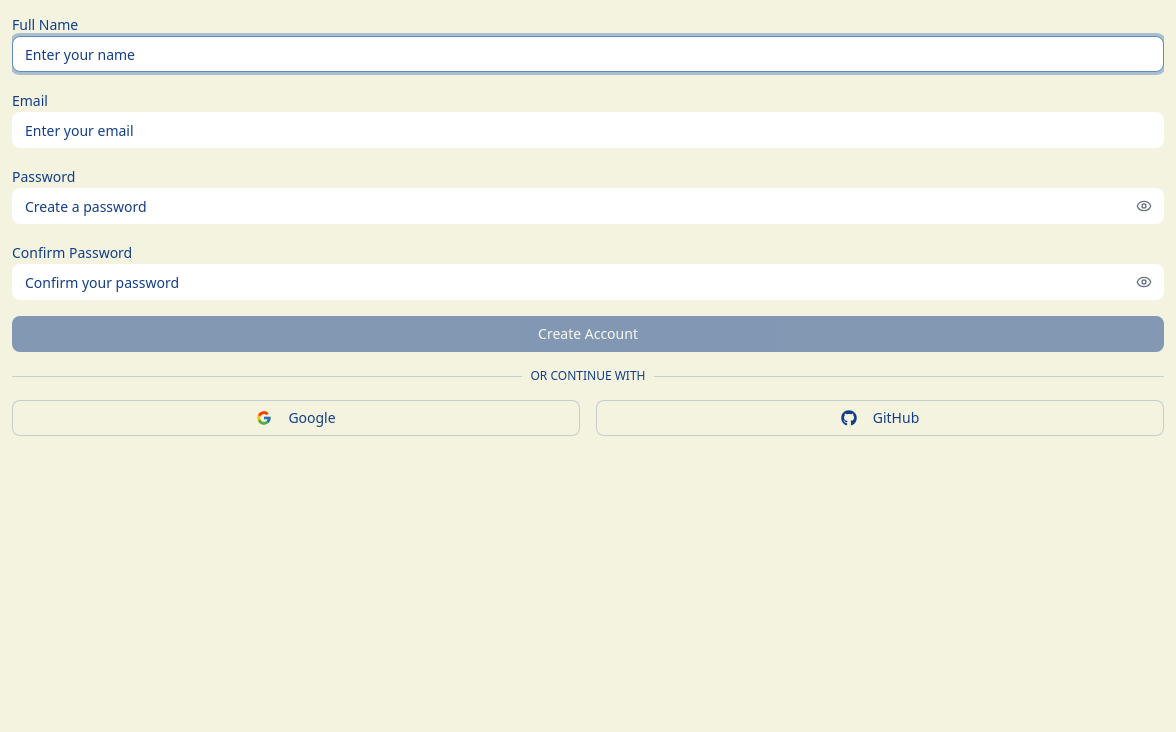
SignupForm Component › rate-limit with no remainingTime falls back to 120s cooldown
The image size is (1176, 732).
Type "Fallback User" into the field with placeholder "Enter your name" at coordinates (588, 54), box top-left (12, 36), bottom-right (1164, 72)
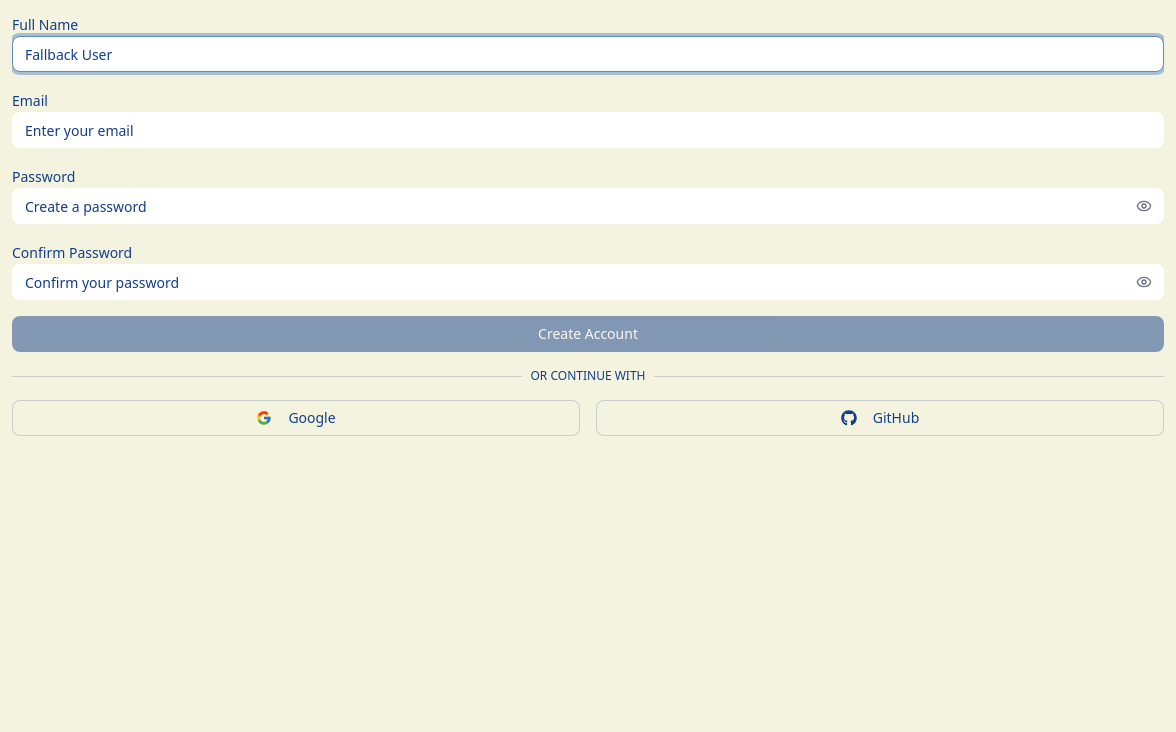
Type "fallback@example.com" into the field with placeholder "Enter your email" at coordinates (588, 130), box top-left (12, 112), bottom-right (1164, 148)
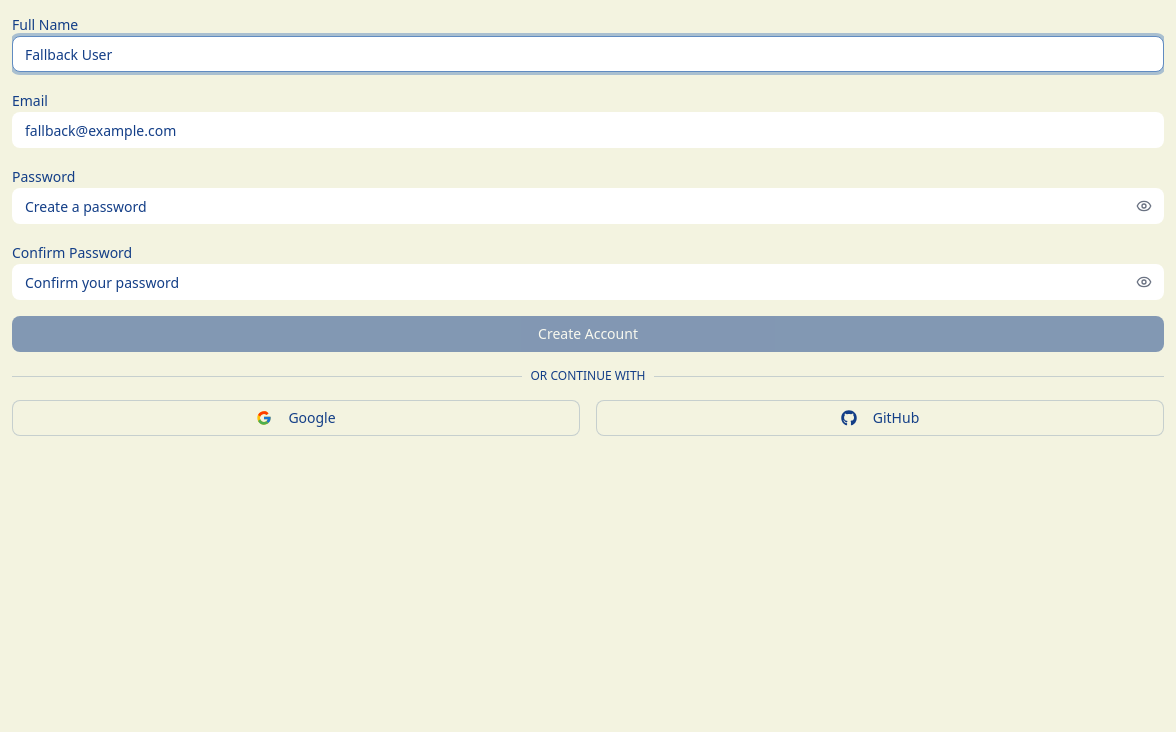
Type "password123" into the password field with placeholder "Create a password" at coordinates (588, 206), box top-left (12, 188), bottom-right (1164, 224)
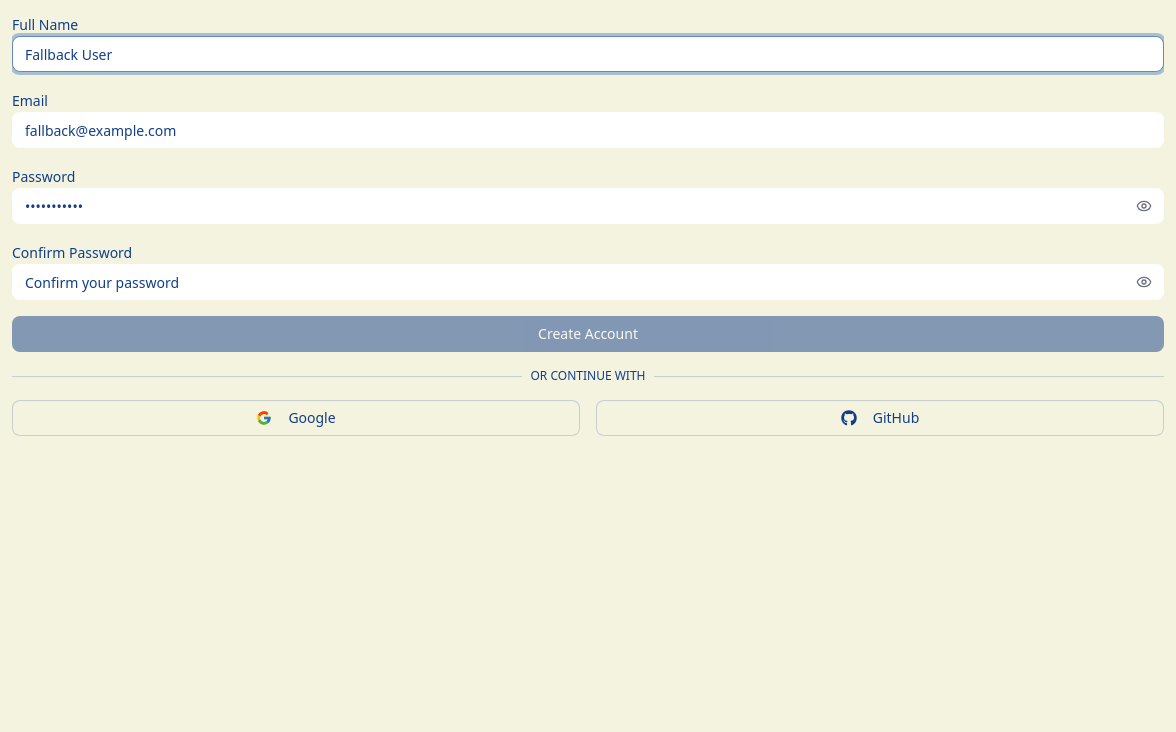
Type "password123" into the password field with placeholder "Confirm your password" at coordinates (588, 282), box top-left (12, 264), bottom-right (1164, 300)
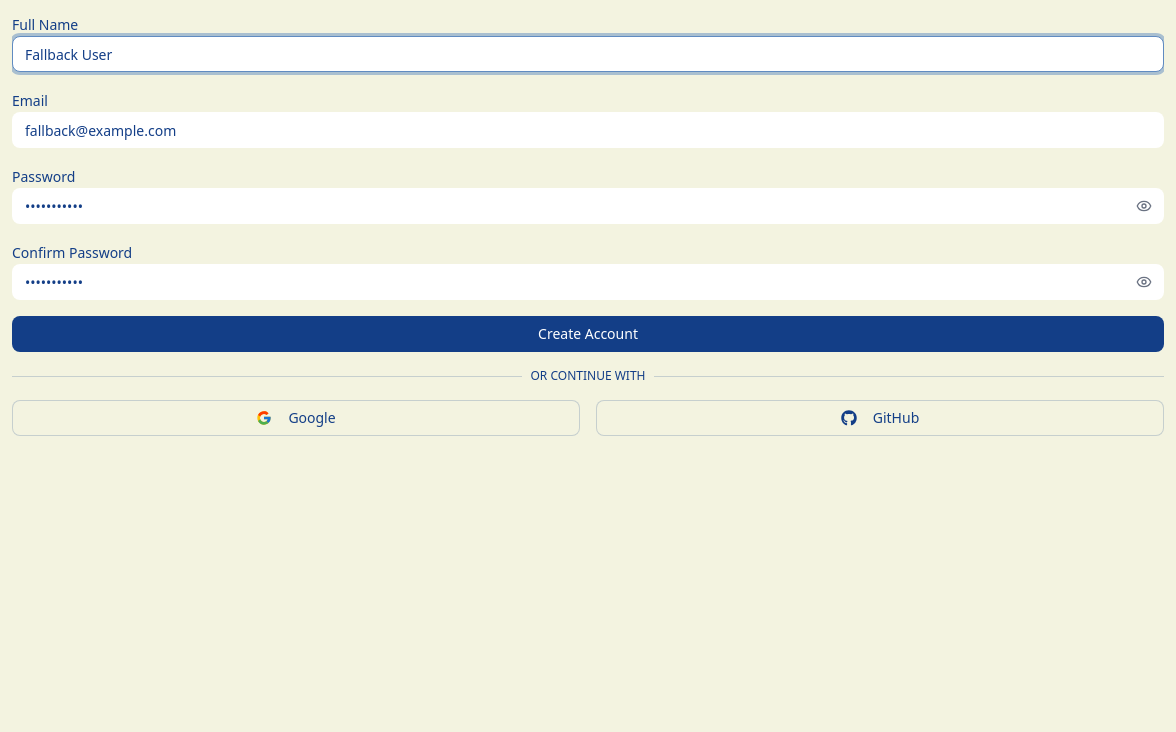
Click the button "Create Account" at coordinates (588, 334), box top-left (12, 316), bottom-right (1164, 352)
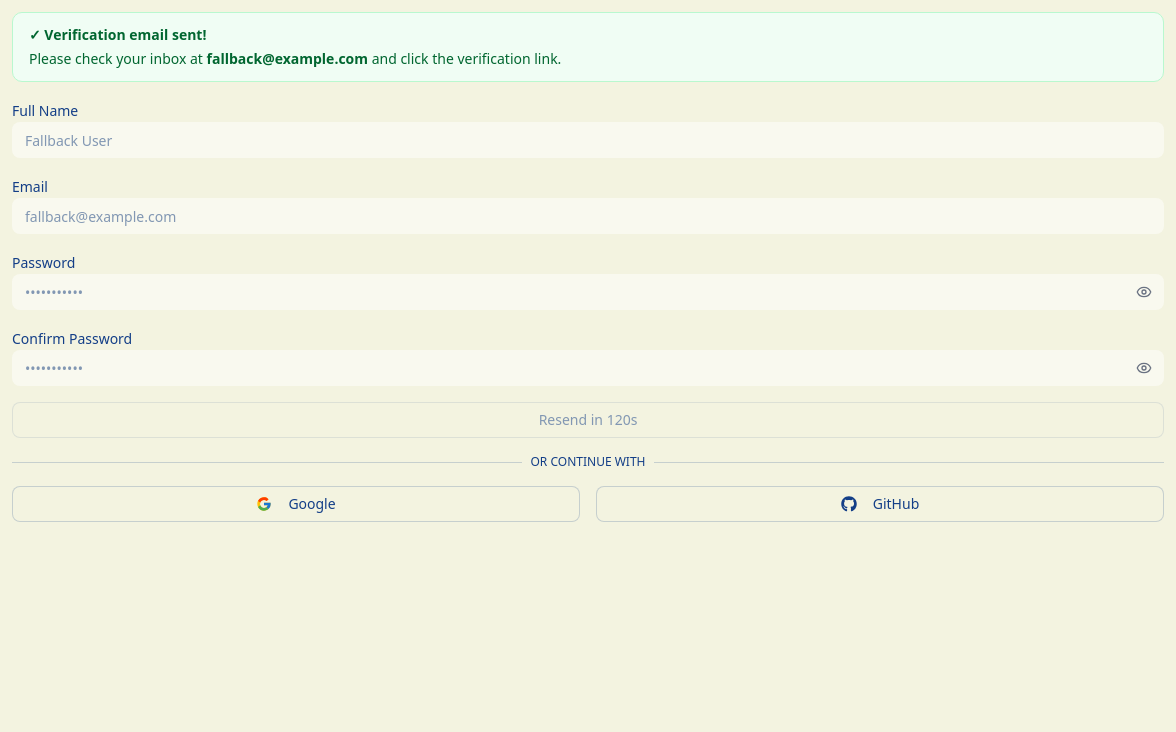
Check: the element that starts with "✓ Verification email sent!" is shown, box top-left (29, 25), bottom-right (206, 44)
Check: the button "Resend in 120s" is disabled, box top-left (12, 402), bottom-right (1164, 438)
